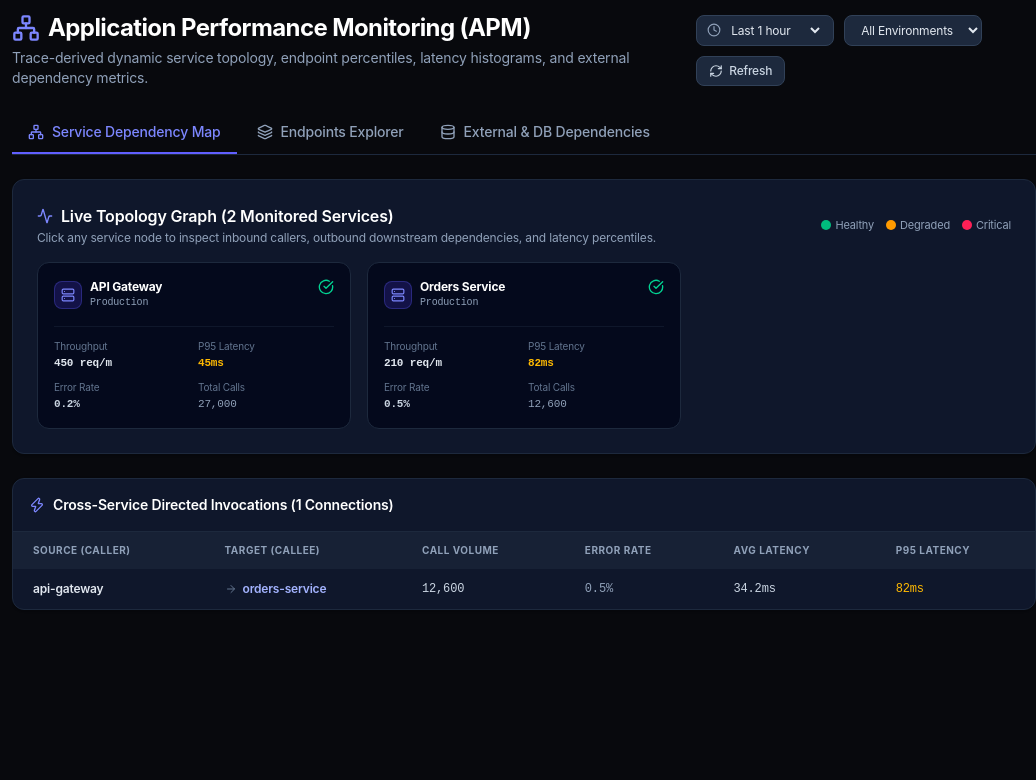
Scenario: ApmPage › displays service nodes and allows switching to Endpoints tab
This screenshot has width=1036, height=780.
Expected: the heading "API Gateway" is shown, [90,279,162,295]
Expected: the heading "Orders Service" is shown, [420,279,505,295]
Step 1. Click the button "Endpoints Explorer" → (330, 133), box [240,112,420,154]
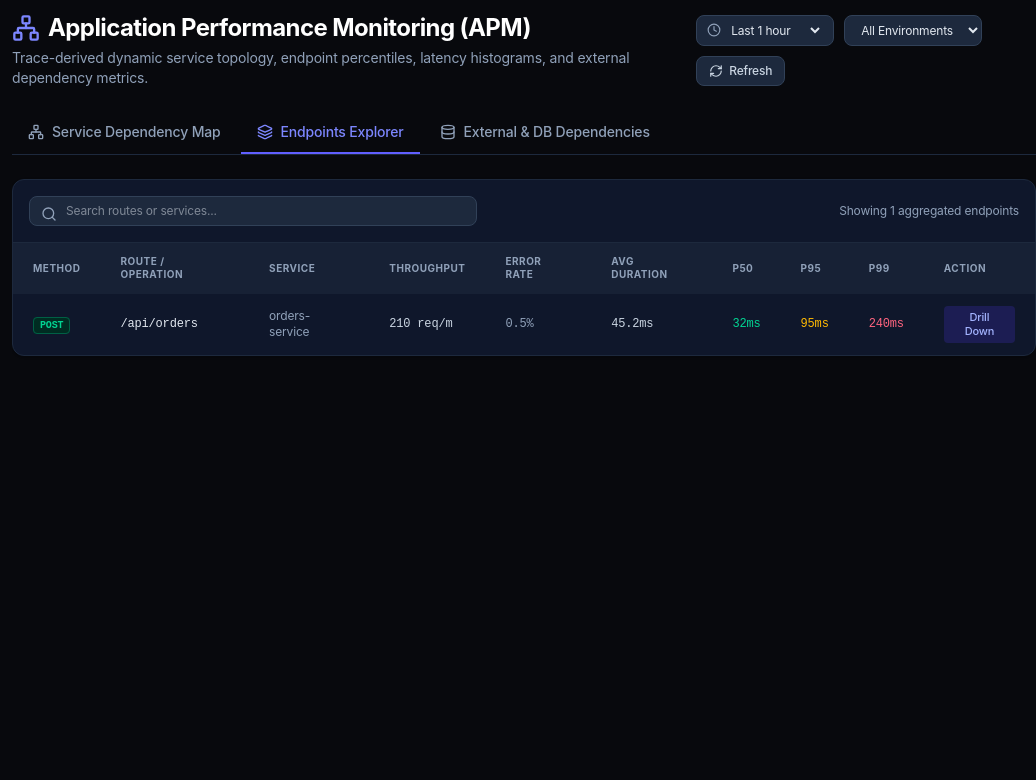
Result: the field with placeholder "Search routes or services..." is shown at [29,196,477,226]
Result: the text "/api/orders" is shown at [100,294,249,355]
